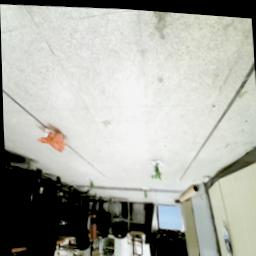herb: (149, 159, 163, 182), (87, 176, 95, 193), (142, 186, 149, 199)
wild: (34, 126, 69, 157)
